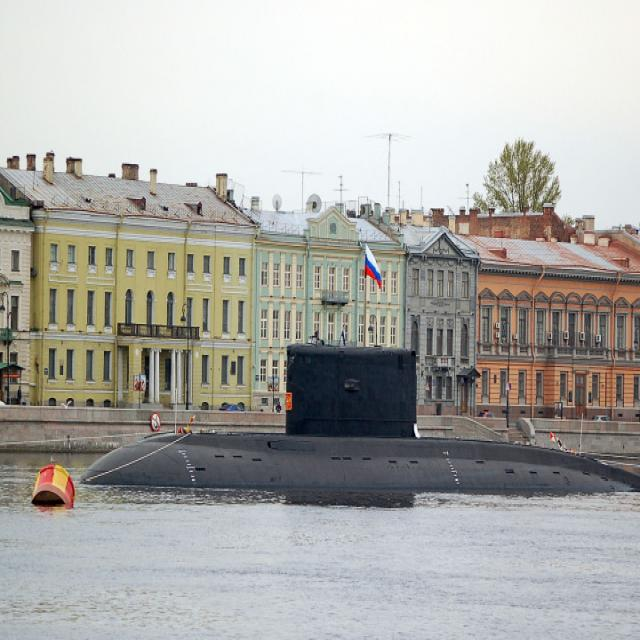submarine: (74, 344, 640, 493)
